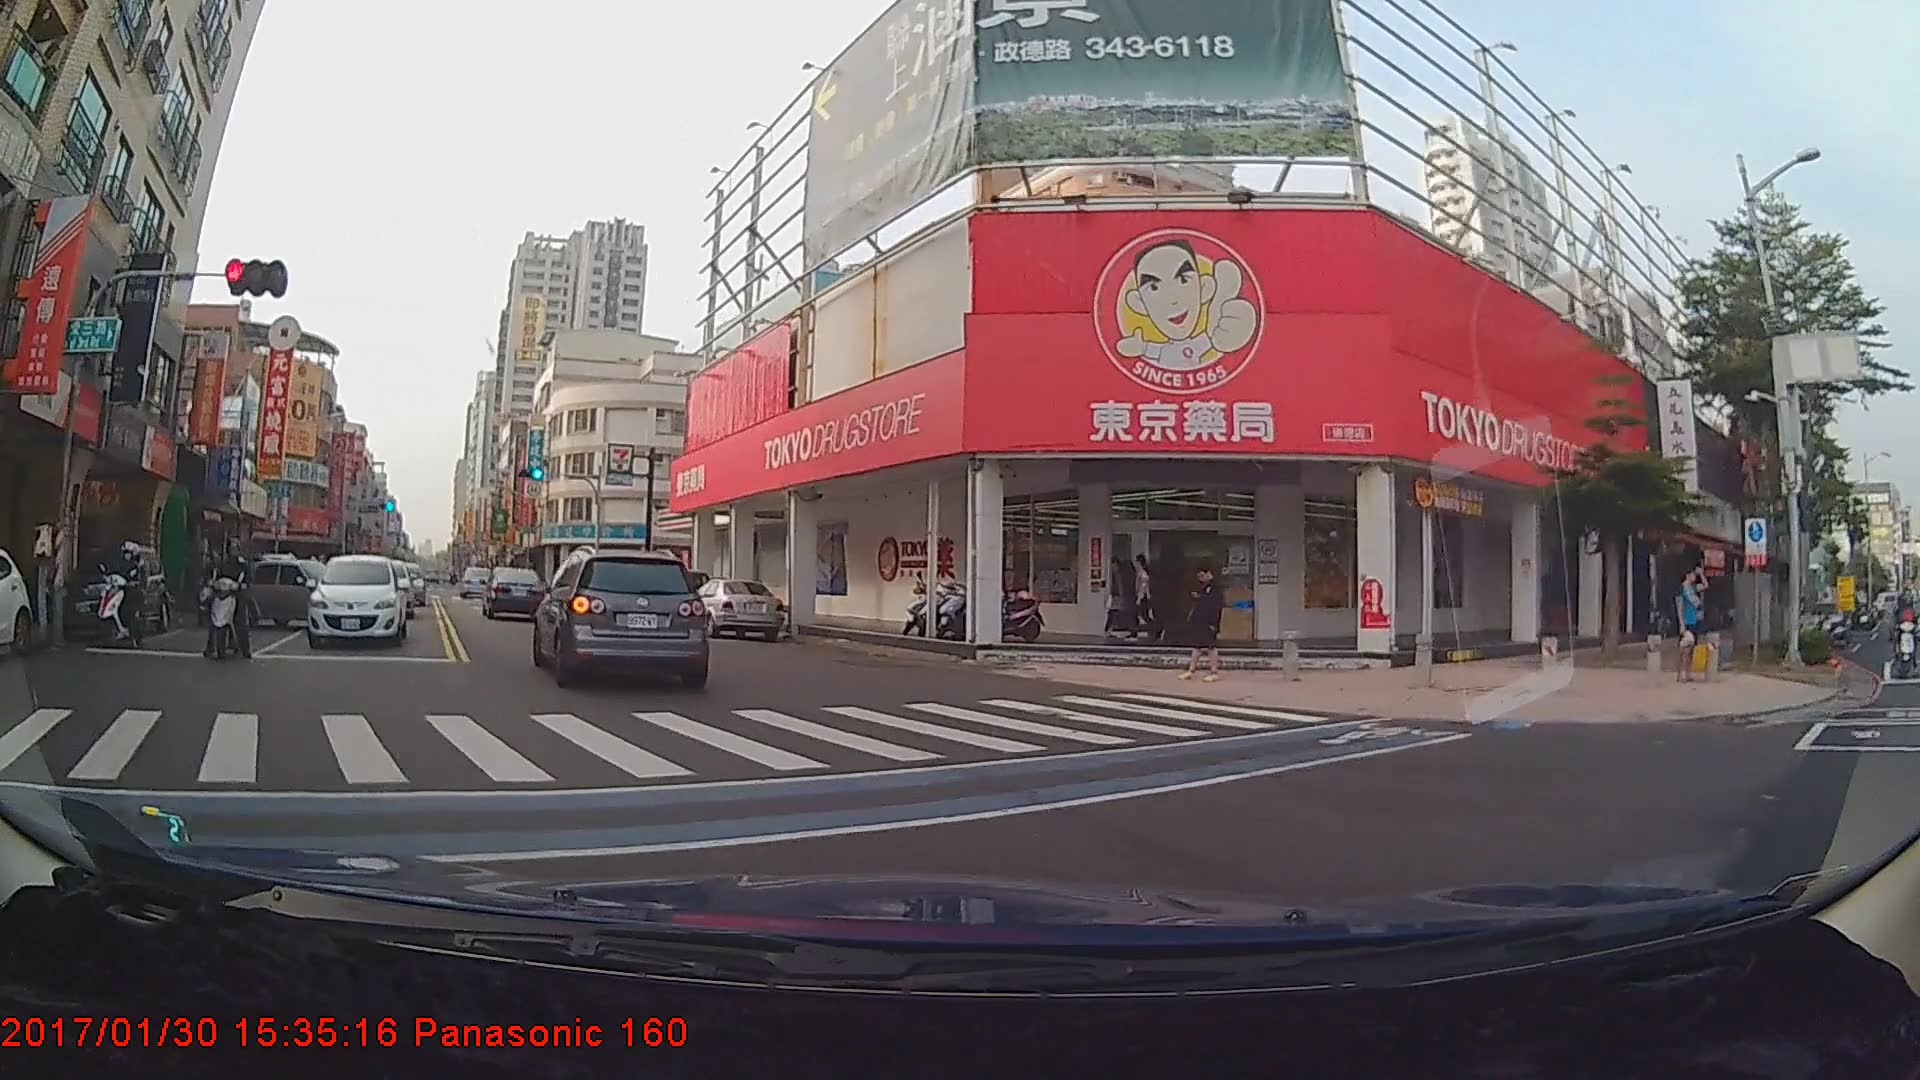pedestrian: (1180, 562, 1230, 681), (1672, 564, 1713, 683), (1103, 556, 1141, 638), (1133, 551, 1161, 644)
rider: (85, 550, 160, 660), (199, 537, 258, 661), (1891, 594, 1920, 677)
vehicle: (534, 544, 707, 685), (46, 544, 170, 645), (306, 561, 407, 655), (237, 562, 351, 632), (680, 578, 784, 641), (482, 566, 543, 620), (377, 562, 425, 611)
